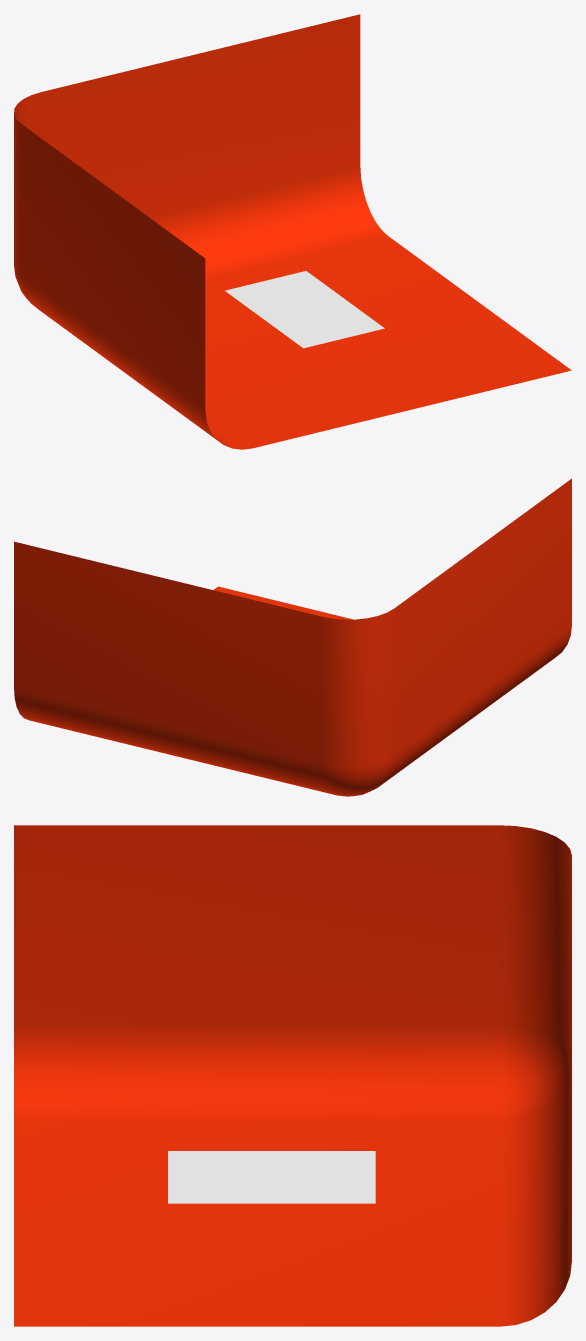
Rendered from car.glb.
3 views of the same model, one above another, from view 1: azimuth 30°, elevation 25°; view 2: azimuth 150°, elevation 25°; view 3: azimuth 270°, elevation 25° (orthographic). The views are drawn at different scales.
Visible parts, largest first — view 1: Plane, Cloth; view 2: Plane; view 3: Plane, Cloth.
Boxes of the visible parts, box(x1,y1,x2,y2) form: Plane: box(14, 14, 571, 449); Cloth: box(225, 271, 384, 348); Plane: box(14, 478, 571, 796); Plane: box(14, 825, 571, 1326); Cloth: box(168, 1151, 375, 1203).
Size of what is drawn, in the model's own units: 19.22 by 10.09 by 19.22.
